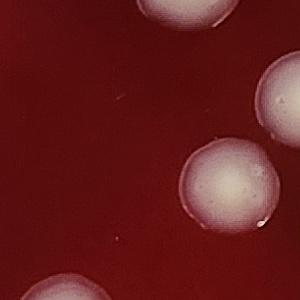colony: (174, 135, 286, 244), (244, 45, 300, 153), (128, 0, 246, 44), (9, 270, 128, 300)
